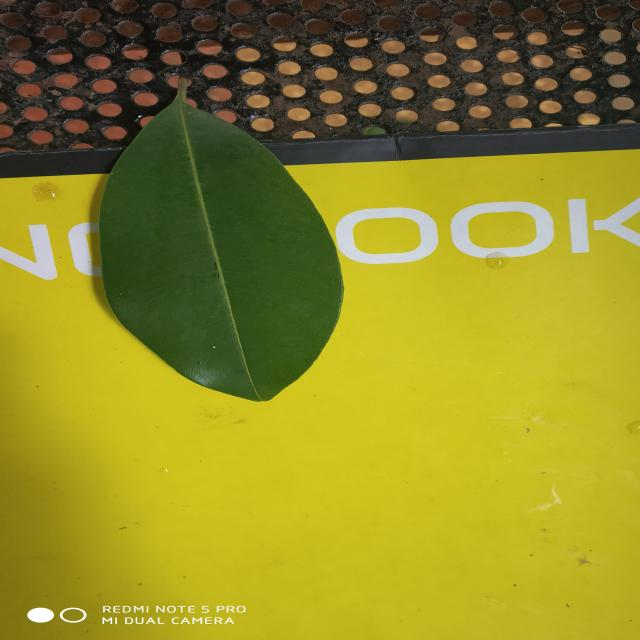sapota: (100, 80, 342, 401)
